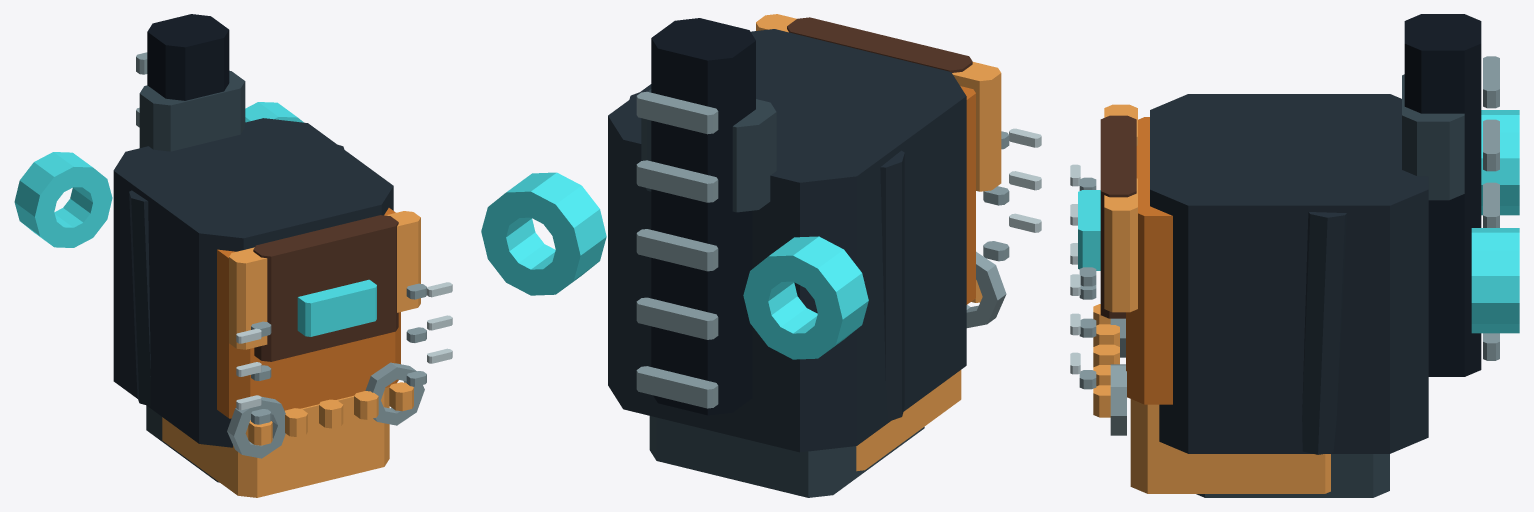
File: enemy_runner_body.obj
3 views of the same model, side by side, from view 1: azimuth 30°, elevation 25°; view 2: azimuth 150°, elevation 25°; view 3: azimuth 270°, elevation 25° (orthographic). The views are drawn at different scales.
Bounding box in the file's own units: 0.8 × 0.975 × 0.936.
